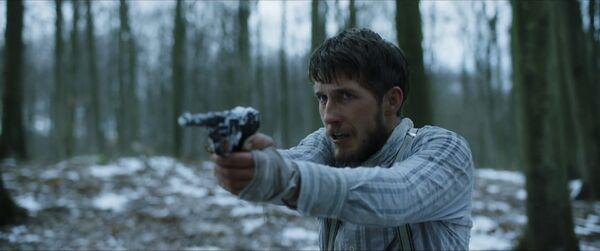Gun: (179, 107, 260, 156)
